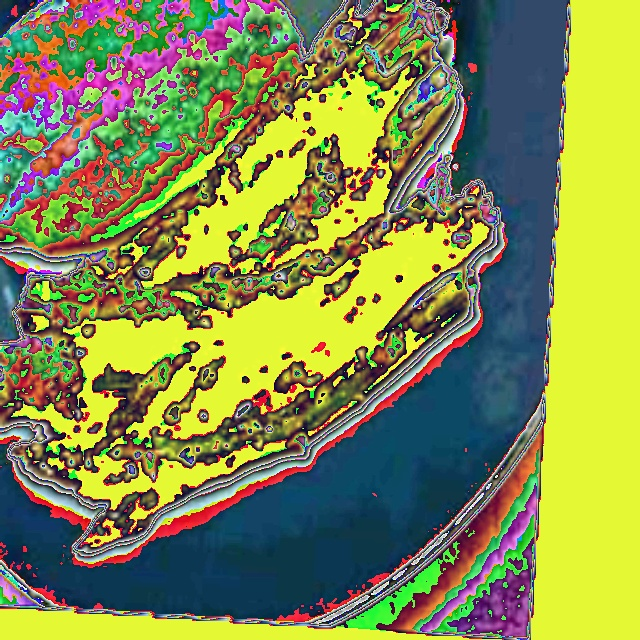background: (0, 0, 500, 558)
